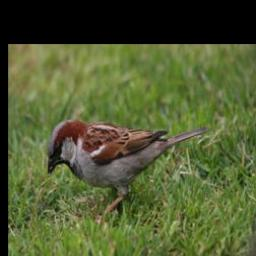Sparrow: (45, 117, 209, 226)
